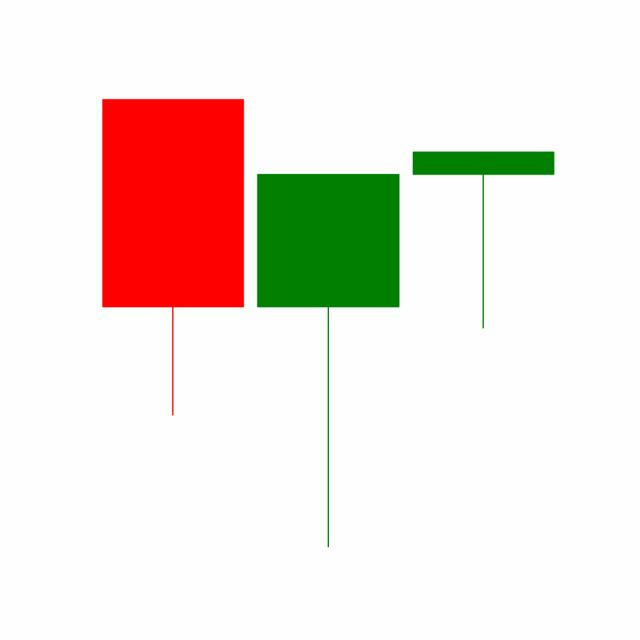Dragonfly Doji: (405, 149, 561, 330)
